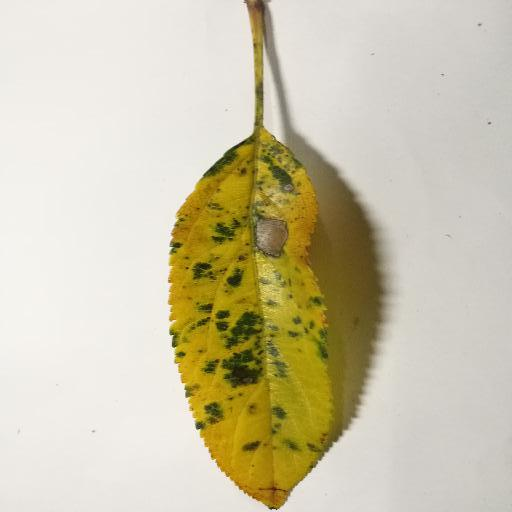Brown_Spot: (252, 209, 303, 257)
